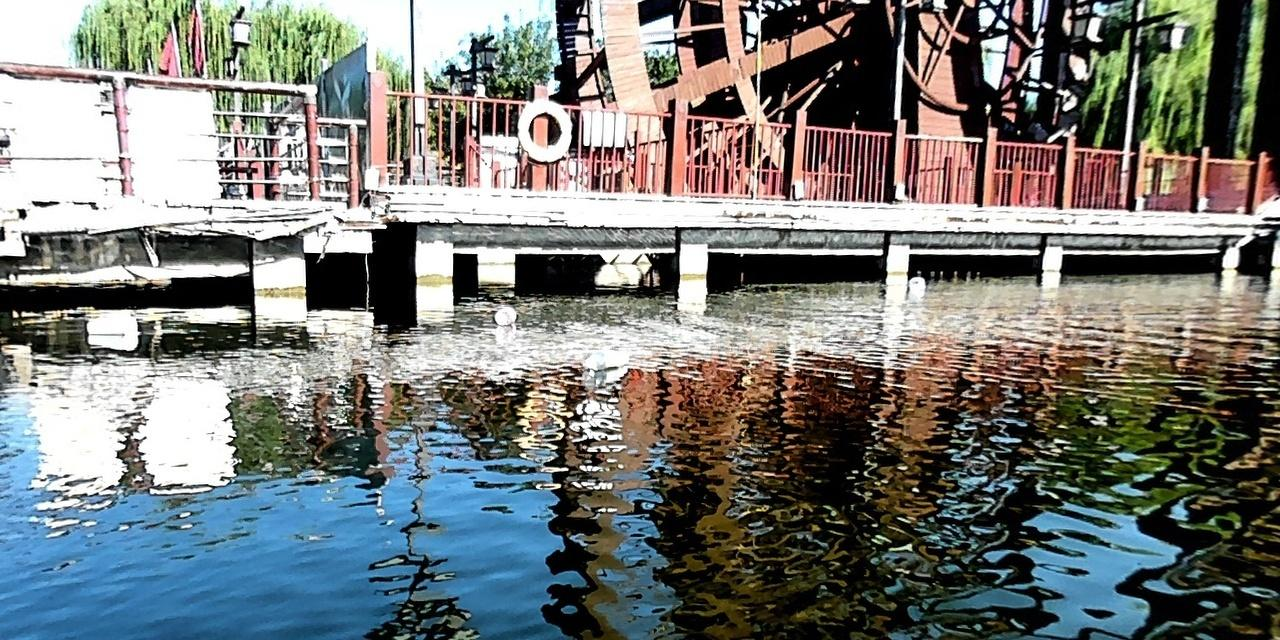bottle: (85, 315, 137, 335), (494, 305, 512, 325), (908, 275, 923, 288)
